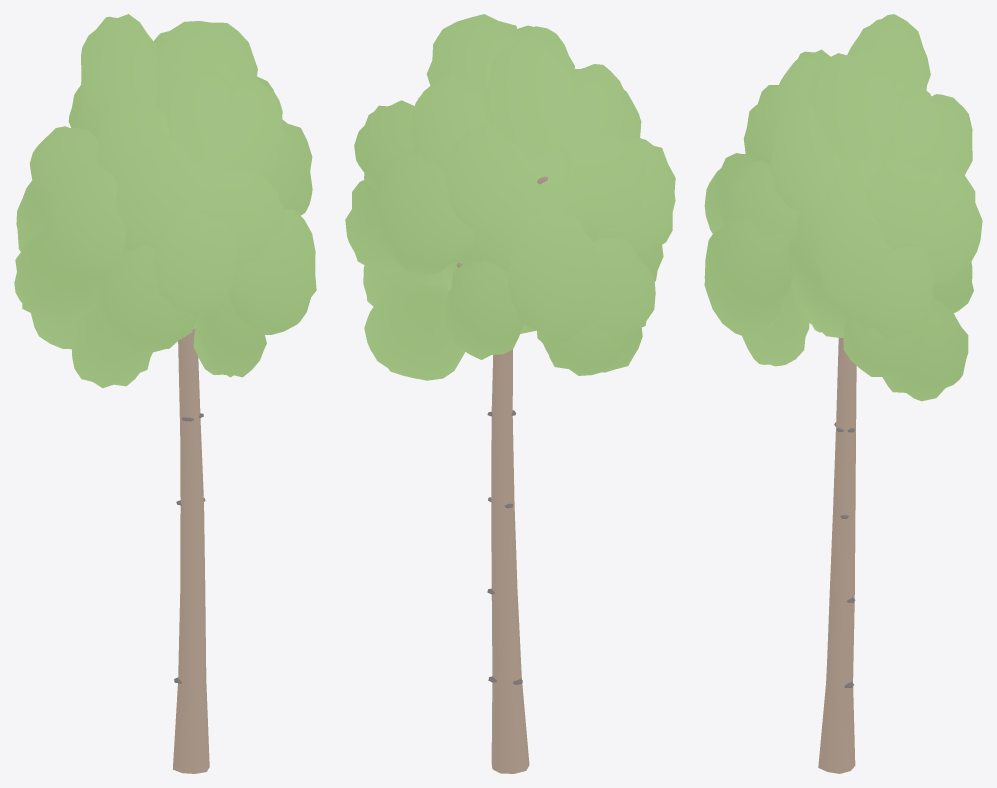
File: Blender_Aspen_3.glb
The picture shows the model from 3 angles, left to right: view 1: azimuth 30°, elevation 25°; view 2: azimuth 150°, elevation 25°; view 3: azimuth 270°, elevation 25°; orthographic projection. The views are drawn at different scales.
Parts seen in each view (by area): view 1: Blender_Aspen_3; view 2: Blender_Aspen_3; view 3: Blender_Aspen_3.
Part boxes in pixels (x1=…): Blender_Aspen_3: x1=14, y1=14, x2=316, y2=773; Blender_Aspen_3: x1=345, y1=14, x2=675, y2=773; Blender_Aspen_3: x1=704, y1=14, x2=982, y2=773.
Bounding box in the file's own units: 6.79 × 17.06 × 5.92.
